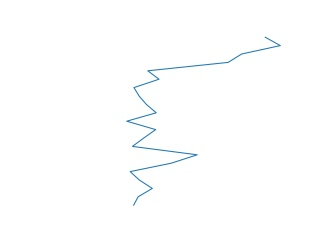crevasseRiverChannelBar: (123, 35, 284, 210)
